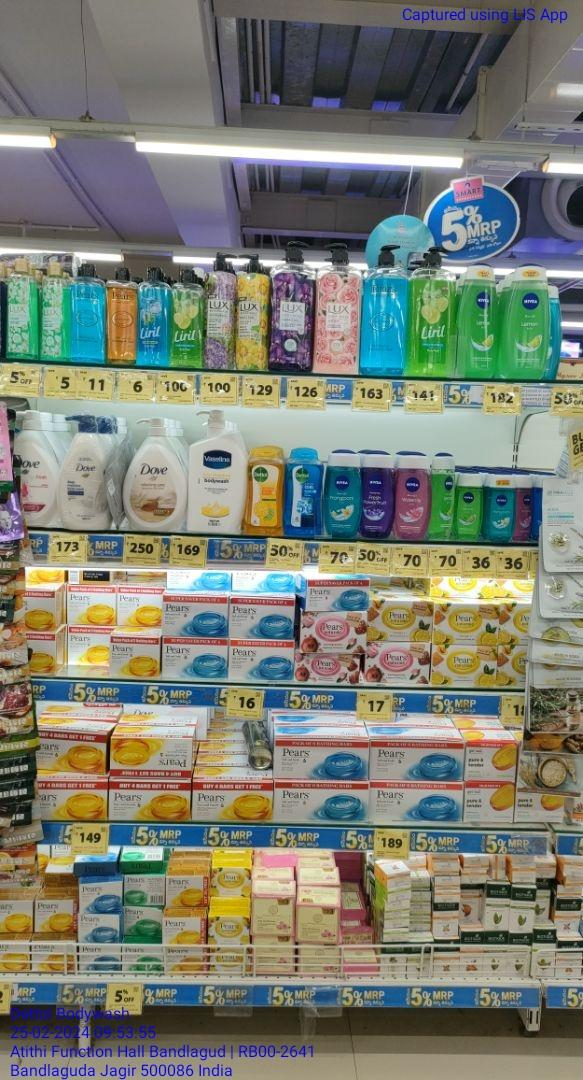Dettol_Bodywash_Cool: (286, 448, 322, 537)
Dettol_Bodywash_Refresh: (246, 446, 283, 536)
Lux_Body_Wash_Skin_Detox_Freesia_Scent_and_Alove_Vera_245ML: (7, 258, 35, 357), (40, 261, 67, 360)
Nivea_Shower_Gel_Frangipani_and_Oil_250ML: (326, 450, 362, 538), (489, 476, 514, 540)
Nivea_Shower_Gel_Fresh_Powerfruit_250ML: (363, 452, 396, 538)
Nivea_Shower_Gel_Lemon_and_Oil_250ML: (505, 263, 547, 378), (460, 263, 495, 379), (432, 453, 457, 541), (459, 472, 483, 541)
Nivea_Shower_Gel_Waterlily_and_Oil_250ML: (398, 452, 430, 539)
